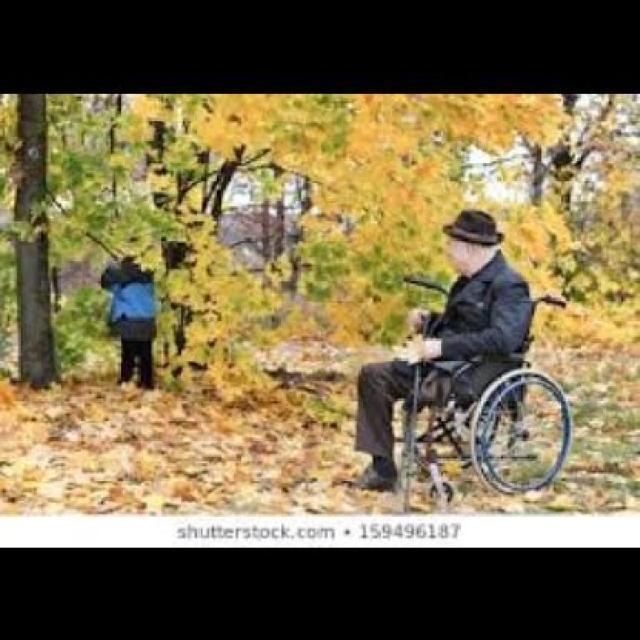wheelchairs: (397, 296, 579, 499)
